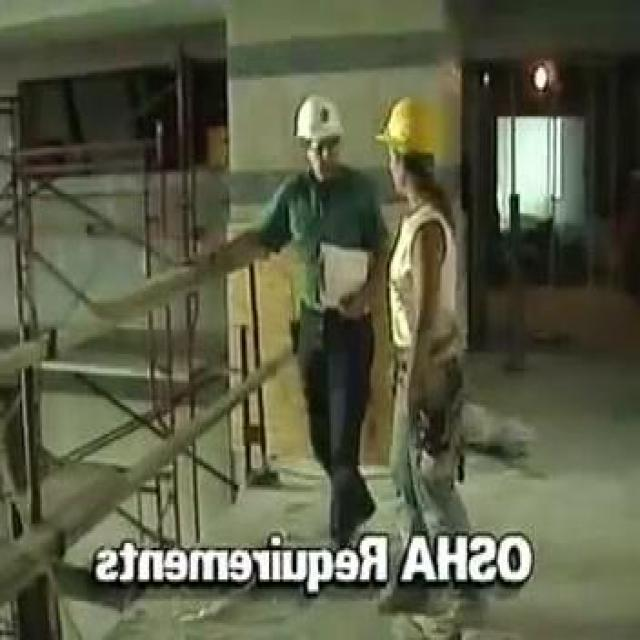Safety-Helmet: (371, 88, 453, 184), (284, 85, 354, 160)
